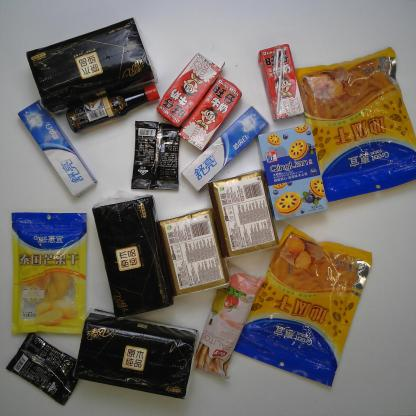Dessert: (190, 259, 268, 382), (254, 123, 330, 223)
Dried Fruit: (230, 222, 374, 389), (293, 44, 415, 203), (8, 208, 93, 337)
Instant Drink: (4, 331, 83, 409), (128, 119, 185, 194)
Milk: (155, 51, 228, 130), (177, 75, 243, 152), (257, 42, 305, 124)
Personal Hygiene: (17, 98, 99, 200), (180, 104, 271, 195)
Seasoner: (64, 81, 161, 134)
Tissue: (25, 15, 159, 116), (71, 307, 201, 403), (90, 192, 178, 323), (204, 168, 283, 261), (156, 206, 232, 299)
